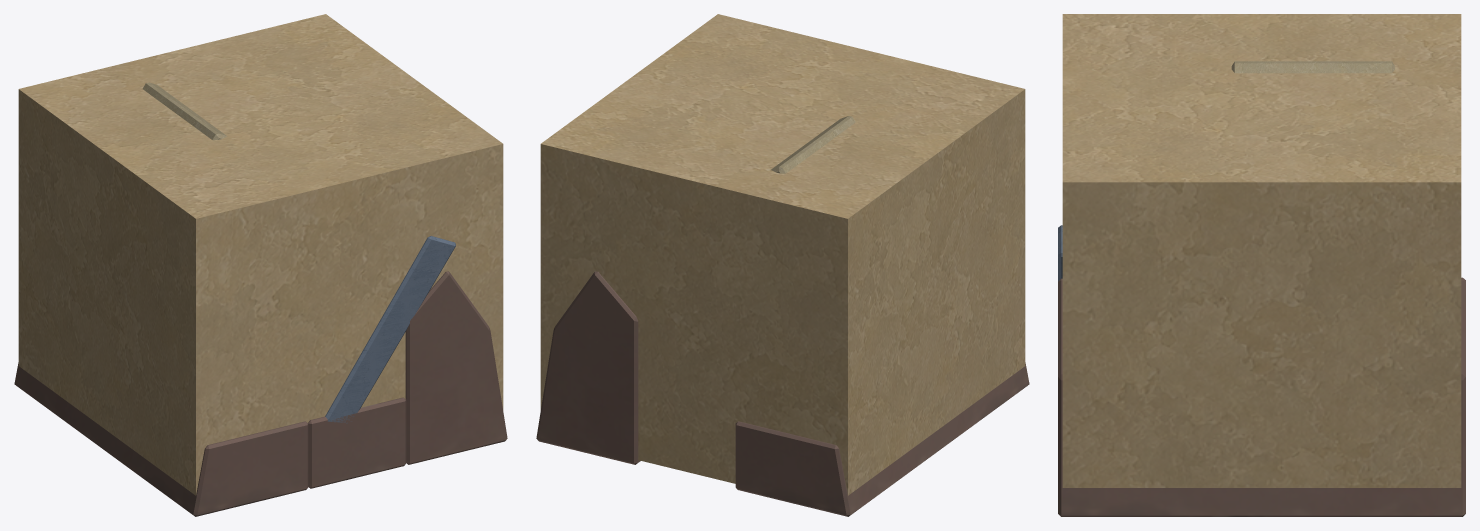
The model's file is env-rubble-small.glb.
3 views of the same model, side by side, from view 1: azimuth 30°, elevation 25°; view 2: azimuth 150°, elevation 25°; view 3: azimuth 270°, elevation 25° (orthographic). The views are drawn at different scales.
Parts seen in each view (by area): view 1: COL_crate, VIS_brick, VIS_timbersoot, VIS_plaster; view 2: COL_crate, VIS_brick, VIS_plaster; view 3: COL_crate, VIS_brick, VIS_plaster.
Boxes of the visible parts, bbox=[...] form: COL_crate: bbox=[18, 14, 503, 495]; VIS_brick: bbox=[14, 271, 507, 516]; VIS_timbersoot: bbox=[325, 236, 455, 423]; VIS_plaster: bbox=[142, 82, 227, 140]; COL_crate: bbox=[540, 14, 1025, 495]; VIS_brick: bbox=[536, 271, 1029, 516]; VIS_plaster: bbox=[771, 116, 855, 173]; COL_crate: bbox=[1062, 14, 1461, 487]; VIS_brick: bbox=[1058, 277, 1465, 516]; VIS_plaster: bbox=[1231, 61, 1394, 73].
Size of the model in its own units: 0.675 by 0.62 by 0.675.
3 materials, 3 textured.
